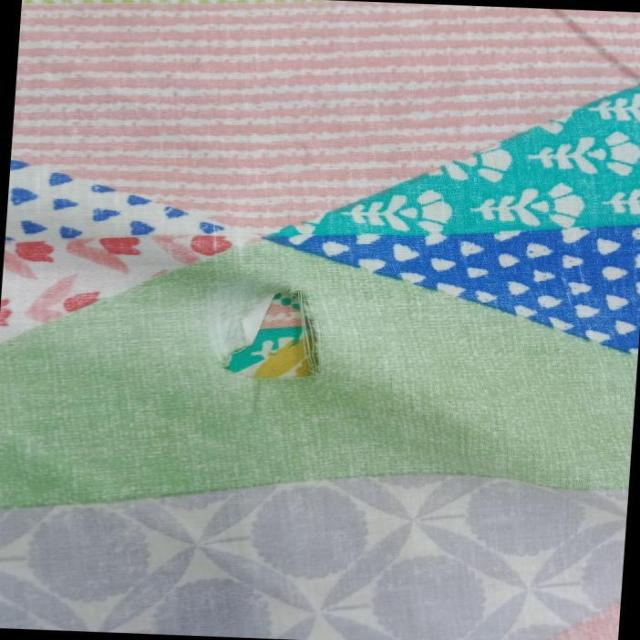cut: (220, 263, 337, 400)
